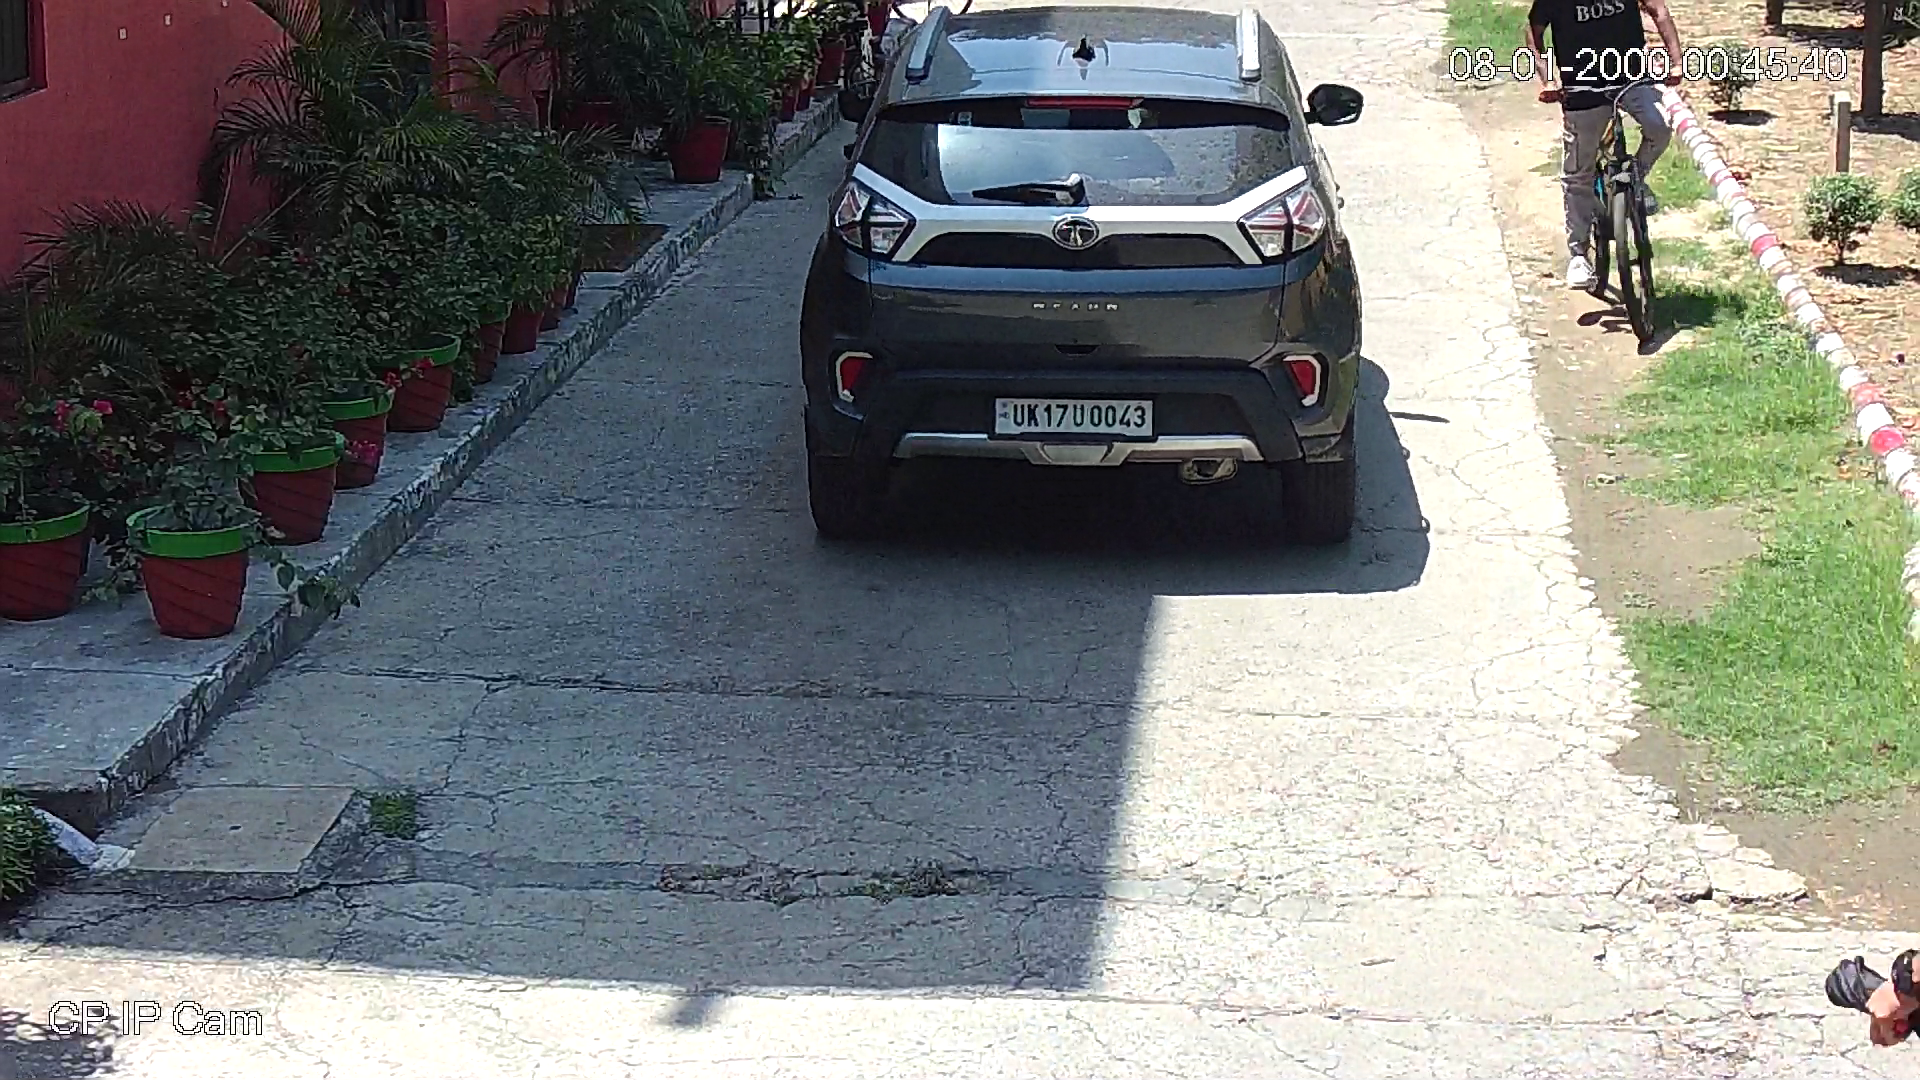plate: (990, 391, 1158, 439)
